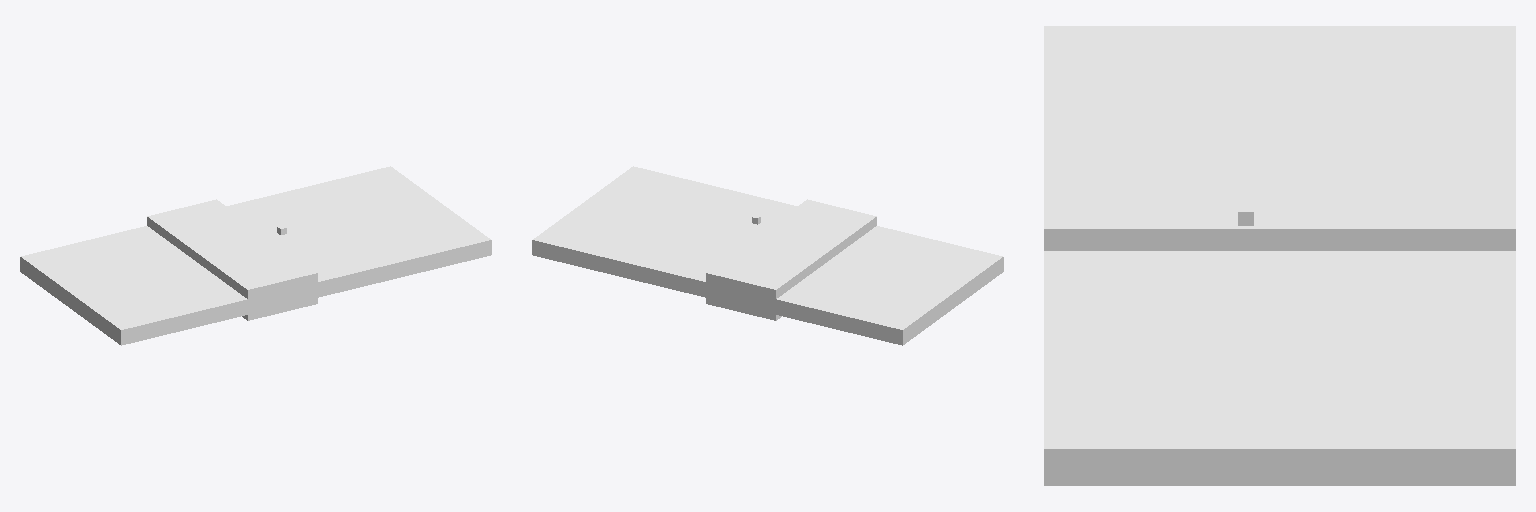
URDF robot description (down):
<robot name="down">
  <link name="base_link">
    <visual>
      <origin xyz="0 0 0" rpy="0 0 0" />
      <geometry>
        <mesh filename="package://hpp-rbprm-corba/meshes/down.stl"/>
      </geometry>
      <material name="white">
        <color rgba="1 1 1 1"/>
      </material>
    </visual>
    <collision>
      <origin xyz="0 0 0" rpy="0 0 0" />
      <geometry>
        <mesh filename="package://hpp-rbprm-corba/meshes/down.stl"/>
      </geometry>
    </collision>
  </link>
</robot>

--- Render facts (derived) ---
3 views of the same robot in one strip: view 1: azimuth 30°, elevation 25°; view 2: azimuth 150°, elevation 25°; view 3: azimuth 270°, elevation 25° (orthographic).
Robot: down — 1 links, 0 joints (none); root link base_link; default pose: all joints at 0.
Visible links, largest first — view 1: base_link; view 2: base_link; view 3: base_link.
Boxes of the visible links, x1,y1,x2,y2 form: base_link: (20,166,491,345); base_link: (532,166,1003,345); base_link: (1044,26,1515,485).
Size in the robot's own frame: 12.51 by 5.89 by 1.4 metres.
1 mesh visuals loaded from 1 distinct referenced files (1 binary STL).